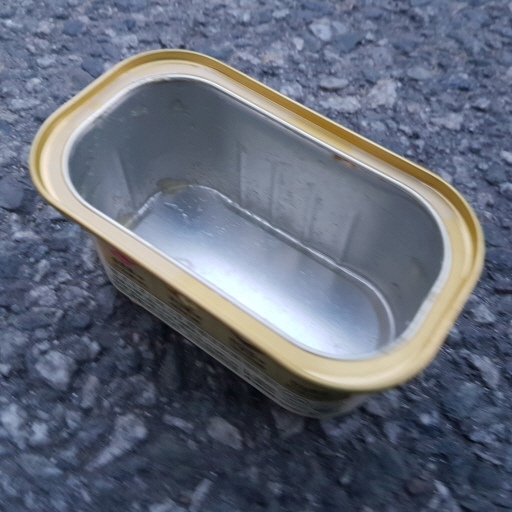Metal_2: (30, 48, 485, 419)
